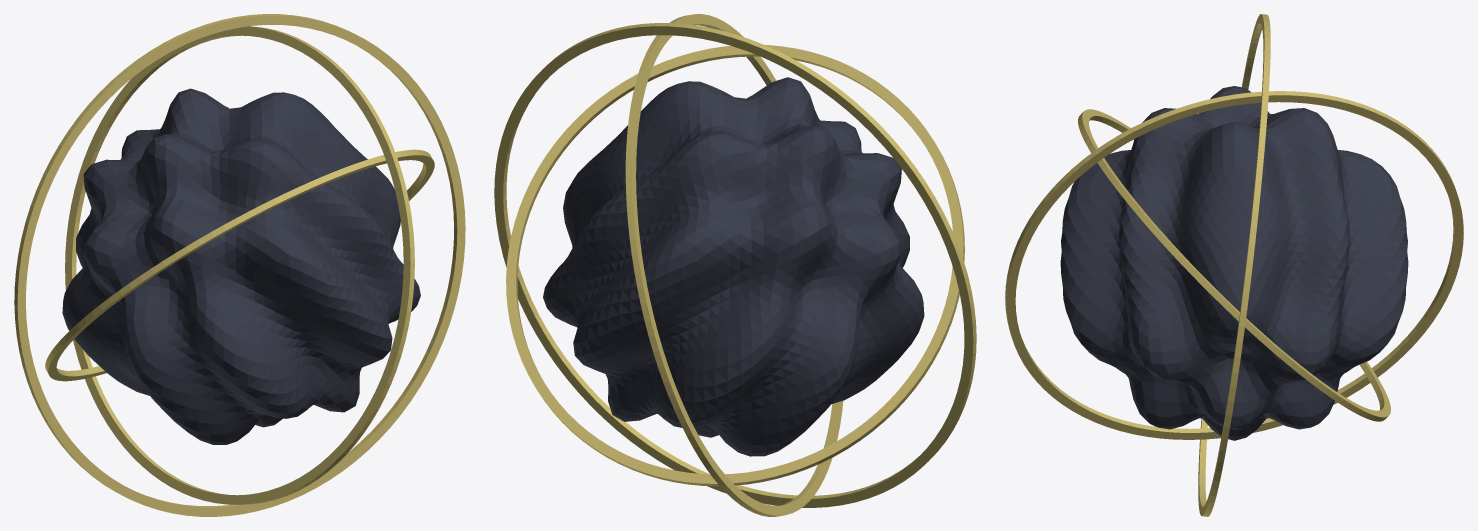
The model's file is gpu-artifact.glb.
The picture shows the model from 3 angles, left to right: view 1: azimuth 30°, elevation 25°; view 2: azimuth 150°, elevation 25°; view 3: azimuth 270°, elevation 25°; orthographic projection. The views are drawn at different scales.
Parts seen in each view (by area): view 1: mcp-lens_obsidian_core, mcp-lens_orbital_ring_2, mcp-lens_orbital_ring_1, mcp-lens_orbital_ring_0; view 2: mcp-lens_obsidian_core, mcp-lens_orbital_ring_2, mcp-lens_orbital_ring_0, mcp-lens_orbital_ring_1; view 3: mcp-lens_obsidian_core, mcp-lens_orbital_ring_1, mcp-lens_orbital_ring_2, mcp-lens_orbital_ring_0.
Boxes of the visible parts, x1,y1,x2,y2 form: mcp-lens_obsidian_core: (62,88,420,444); mcp-lens_orbital_ring_2: (14,14,465,516); mcp-lens_orbital_ring_1: (65,26,414,504); mcp-lens_orbital_ring_0: (45,149,434,381); mcp-lens_obsidian_core: (543,77,924,456); mcp-lens_orbital_ring_2: (494,23,976,507); mcp-lens_orbital_ring_0: (506,45,964,486); mcp-lens_orbital_ring_1: (625,14,843,516); mcp-lens_obsidian_core: (1060,86,1408,440); mcp-lens_orbital_ring_1: (1005,91,1463,439); mcp-lens_orbital_ring_2: (1198,14,1270,516); mcp-lens_orbital_ring_0: (1078,109,1390,421).
Size of the model in its own units: 3.24 by 3.22 by 2.94.
